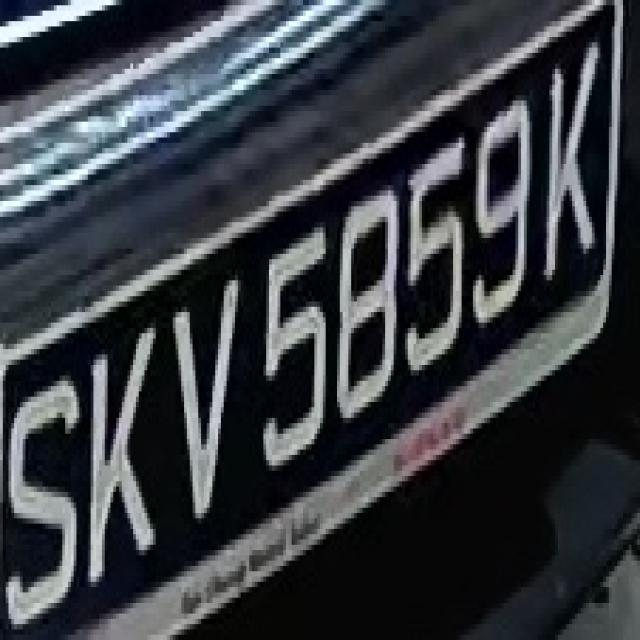5: (252, 233, 334, 481), (399, 148, 470, 370)
8: (329, 190, 402, 434)
9: (470, 95, 541, 339)
K: (80, 333, 164, 577), (541, 32, 603, 280)
S: (11, 354, 82, 640)
V: (162, 291, 244, 534)
